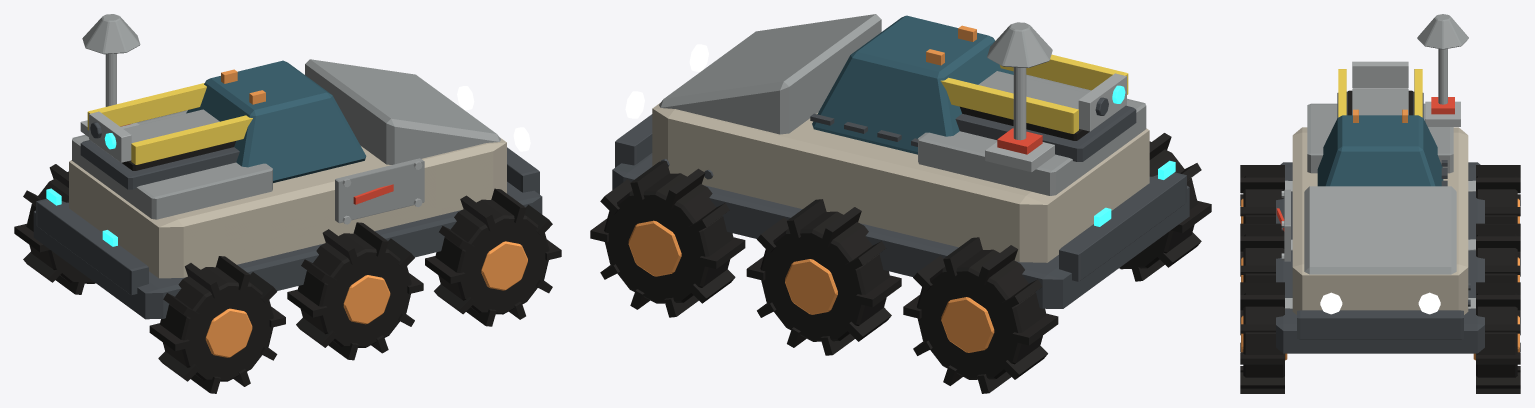
File: rover.glb
The picture shows the model from 3 angles, left to right: view 1: azimuth 30°, elevation 25°; view 2: azimuth 150°, elevation 25°; view 3: azimuth 270°, elevation 25°; orthographic projection. The views are drawn at different scales.
Visible parts, largest first — view 1: RR_Rover_Main_Chassis, RR_Rover_LowPoly_Cockpit, RR_Rover_Sloped_Front_Hood, RR_Rover_Underbody_Frame, RR_Rover_Left_Wheel_3_Rubber_Tire, RR_Rover_Left_Wheel_2_Rubber_Tire, RR_Rover_Left_Wheel_1_Rubber_Tire, RR_Rover_Rear_Service_Deck, RR_Rover_Rear_Bumper, RR_Rover_Component_SideAccessPanel_Panel, RR_Rover_PowerCellDock_Outer_Bezeled_Frame, RR_Rover_PowerCellDock_Left_Guide_Rail (+23 smaller); view 2: RR_Rover_Main_Chassis, RR_Rover_LowPoly_Cockpit, RR_Rover_Sloped_Front_Hood, RR_Rover_Underbody_Frame, RR_Rover_Right_Wheel_1_Rubber_Tire, RR_Rover_Right_Wheel_2_Rubber_Tire, RR_Rover_Right_Wheel_3_Rubber_Tire, RR_Rover_Rear_Service_Deck, RR_Rover_Rear_Bumper, RR_Rover_PowerCellDock_Right_Guide_Rail, RR_Rover_PowerCellDock_Outer_Bezeled_Frame, RR_Rover_Right_Wheel_1_Orange_Hub (+26 smaller); view 3: RR_Rover_Sloped_Front_Hood, RR_Rover_Main_Chassis, RR_Rover_LowPoly_Cockpit, RR_Rover_Underbody_Frame, RR_Rover_Front_Bumper, RR_Rover_Rear_Service_Deck, RR_Rover_Left_Wheel_3_Rubber_Tire, RR_Rover_Right_Wheel_3_Rubber_Tire, RR_Rover_PowerCellDock_Terminal_Block, RR_Rover_PowerCellDock_Battery_Seat, RR_Rover_Component_AntennaModule_Dish_LowPoly, RR_Rover_Right_Wheel_2_Rubber_Tire (+36 smaller).
Boxes of the visible parts, <box> form: RR_Rover_Main_Chassis: <box>69,137,506,278</box>; RR_Rover_LowPoly_Cockpit: <box>186,60,366,182</box>; RR_Rover_Sloped_Front_Hood: <box>305,59,500,164</box>; RR_Rover_Underbody_Frame: <box>33,181,542,319</box>; RR_Rover_Left_Wheel_3_Rubber_Tire: <box>435,199,549,314</box>; RR_Rover_Left_Wheel_2_Rubber_Tire: <box>297,233,411,347</box>; RR_Rover_Left_Wheel_1_Rubber_Tire: <box>160,267,273,381</box>; RR_Rover_Rear_Service_Deck: <box>72,110,272,219</box>; RR_Rover_Rear_Bumper: <box>36,198,148,294</box>; RR_Rover_Component_SideAccessPanel_Panel: <box>335,158,424,223</box>; RR_Rover_PowerCellDock_Outer_Bezeled_Frame: <box>80,140,239,189</box>; RR_Rover_PowerCellDock_Left_Guide_Rail: <box>131,115,252,164</box>; RR_Rover_Main_Chassis: <box>652,102,1149,262</box>; RR_Rover_LowPoly_Cockpit: <box>812,15,1013,154</box>; RR_Rover_Sloped_Front_Hood: <box>659,14,881,134</box>; RR_Rover_Underbody_Frame: <box>612,153,1189,308</box>; RR_Rover_Right_Wheel_1_Rubber_Tire: <box>917,249,1046,379</box>; RR_Rover_Right_Wheel_2_Rubber_Tire: <box>760,211,889,341</box>; RR_Rover_Right_Wheel_3_Rubber_Tire: <box>604,173,733,303</box>; RR_Rover_Rear_Service_Deck: <box>918,74,1146,195</box>; RR_Rover_Rear_Bumper: <box>1059,172,1186,281</box>; RR_Rover_PowerCellDock_Right_Guide_Rail: <box>940,77,1078,133</box>; RR_Rover_PowerCellDock_Outer_Bezeled_Frame: <box>955,105,1136,161</box>; RR_Rover_Right_Wheel_1_Orange_Hub: <box>941,297,994,352</box>; RR_Rover_Sloped_Front_Hood: <box>1304,186,1456,274</box>; RR_Rover_Main_Chassis: <box>1292,127,1468,314</box>; RR_Rover_LowPoly_Cockpit: <box>1317,115,1443,186</box>; RR_Rover_Underbody_Frame: <box>1276,162,1484,353</box>; RR_Rover_Front_Bumper: <box>1297,310,1463,339</box>; RR_Rover_Rear_Service_Deck: <box>1307,103,1453,173</box>; RR_Rover_Left_Wheel_3_Rubber_Tire: <box>1243,293,1284,377</box>; RR_Rover_Right_Wheel_3_Rubber_Tire: <box>1476,293,1517,377</box>; RR_Rover_PowerCellDock_Terminal_Block: <box>1352,61,1408,88</box>; RR_Rover_PowerCellDock_Battery_Seat: <box>1352,88,1408,115</box>; RR_Rover_Component_AntennaModule_Dish_LowPoly: <box>1417,14,1468,49</box>; RR_Rover_Right_Wheel_2_Rubber_Tire: <box>1476,234,1517,282</box>.
Size of the model in its own units: 2.81 by 1.86 by 1.88.
